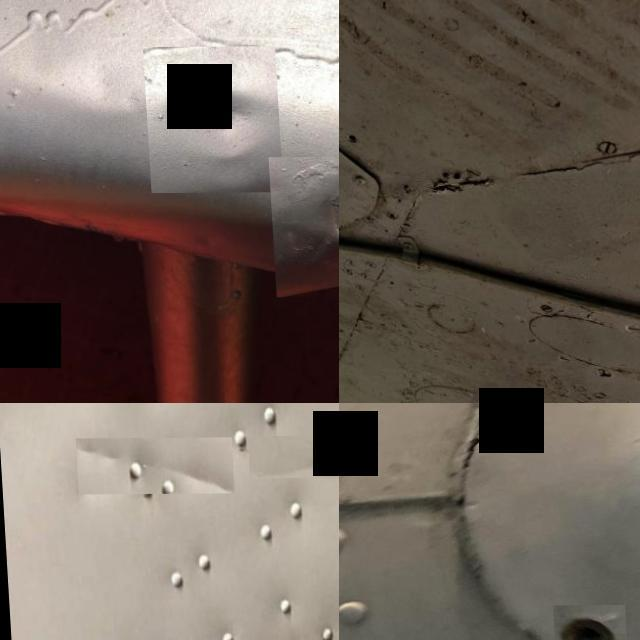Crack: (446, 403, 505, 474)
Dent: (140, 47, 278, 194), (264, 157, 339, 298), (75, 439, 232, 494), (247, 441, 339, 478)
Missing_Fastener: (546, 606, 620, 640)
